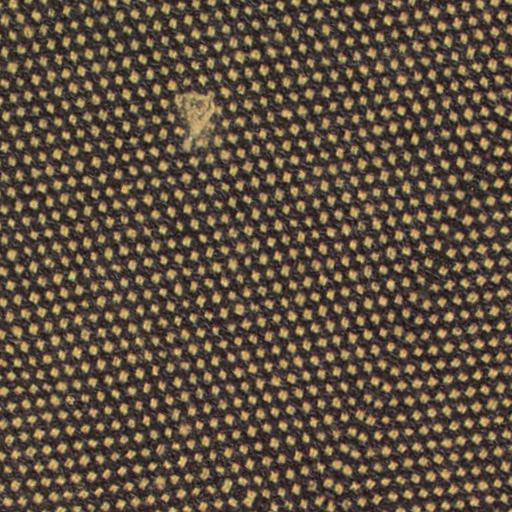knot: (167, 82, 232, 156)
